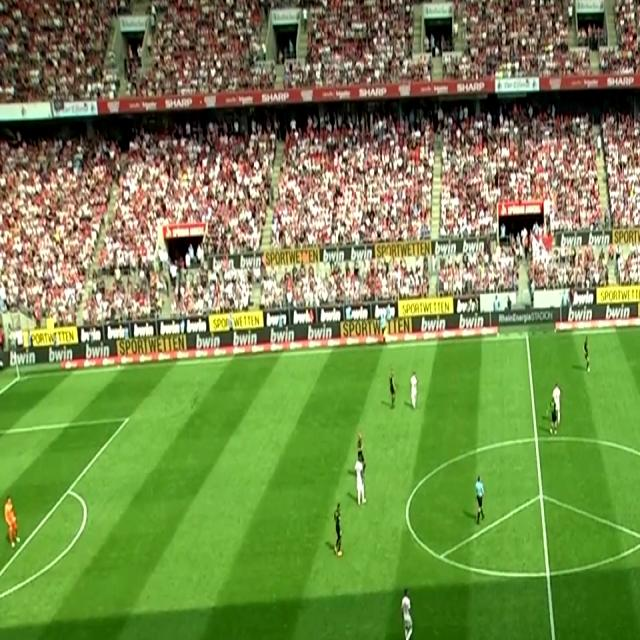goalkeeper: (1, 484, 23, 558)
referee: (470, 469, 488, 530)
soccer-player: (327, 490, 346, 573), (394, 580, 419, 640), (545, 386, 559, 442), (352, 458, 367, 509), (385, 362, 399, 416), (580, 326, 594, 380), (404, 371, 418, 415)
